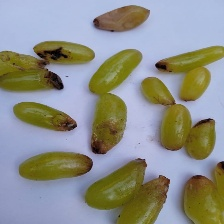grapes: (33, 34, 171, 180)
